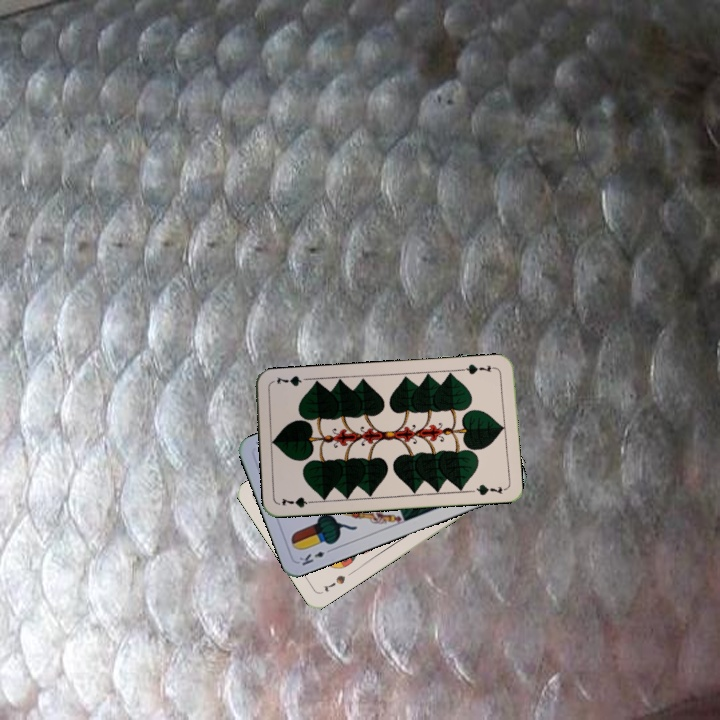EK: (295, 544, 335, 568)
G7: (278, 493, 318, 510), (458, 360, 498, 377)
S7: (319, 571, 348, 594)
